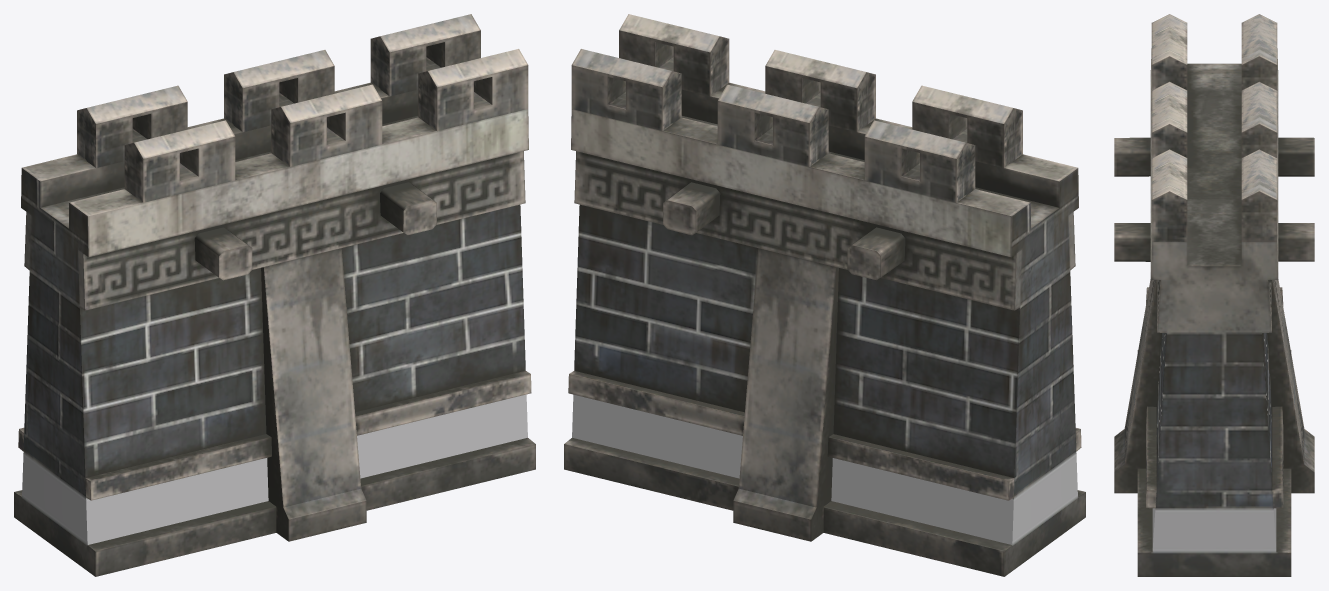
The model's file is 69-greatwall-wall_great_short.glb.
The picture shows the model from 3 angles, left to right: view 1: azimuth 30°, elevation 25°; view 2: azimuth 150°, elevation 25°; view 3: azimuth 270°, elevation 25°; orthographic projection. The views are drawn at different scales.
Bounding box in the file's own units: 4.8 × 4.25 × 2.
1 material, 1 textured.
